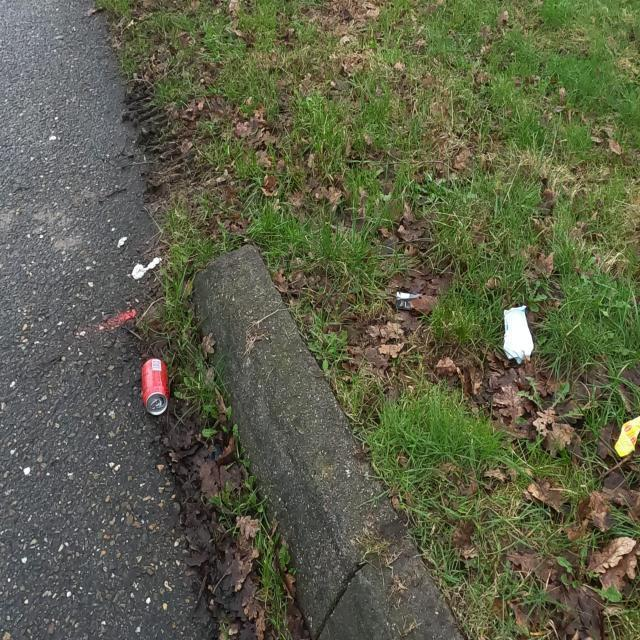Can-Metal: (140, 357, 170, 417)
Paper: (132, 256, 162, 280)
Plastic: (502, 305, 534, 364), (613, 414, 640, 458), (396, 289, 422, 311)
